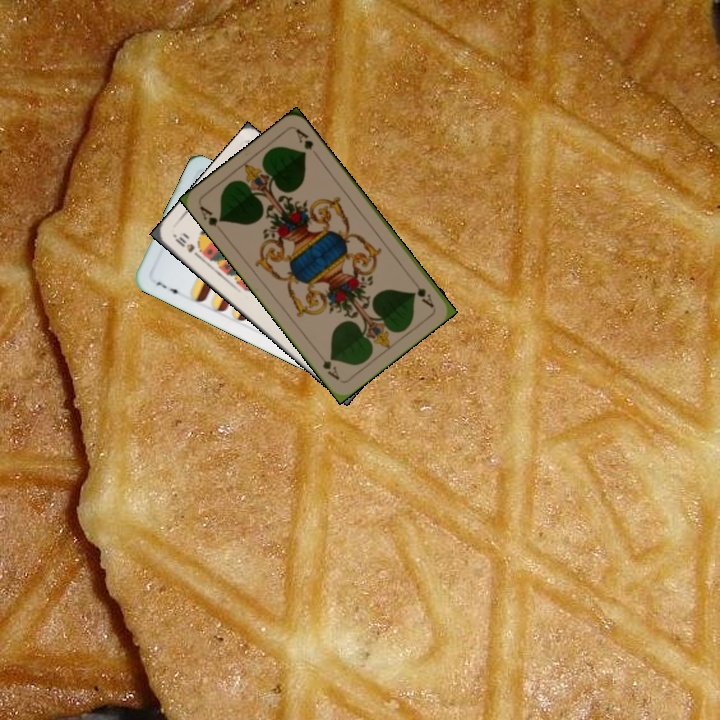E7: (151, 277, 184, 299)
GA: (407, 275, 437, 310), (196, 201, 225, 229)
S10: (169, 230, 204, 261)
